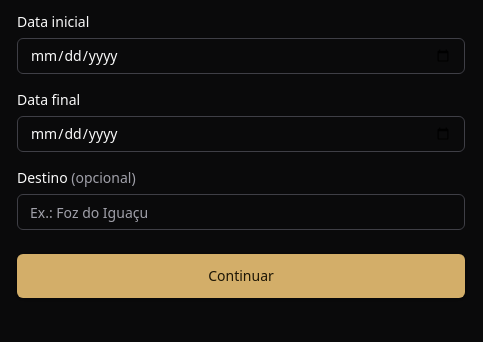
T01DateRangeForm (RF-01.4) › corrigir a data final após erro remove a mensagem e permite avançar
Type "2026-10-10" into the date field labelled "Data inicial".
click(241, 56); type("2026-10-10")  # box [17, 38, 465, 74]
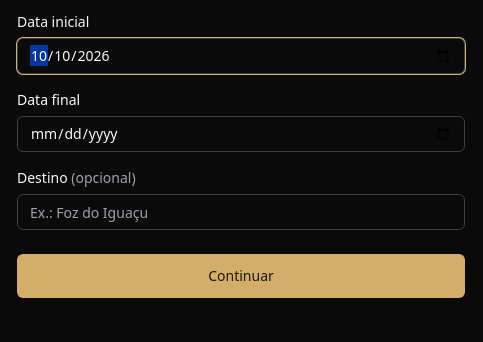
Type "2026-10-05" into the date field labelled "Data final".
click(241, 134); type("2026-10-05")  # box [17, 116, 465, 152]
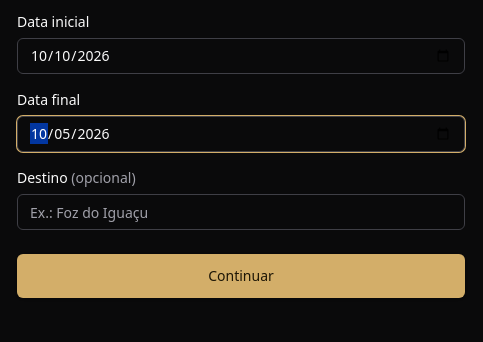
Click the button "Continuar".
click(241, 276)  # box [17, 254, 465, 298]
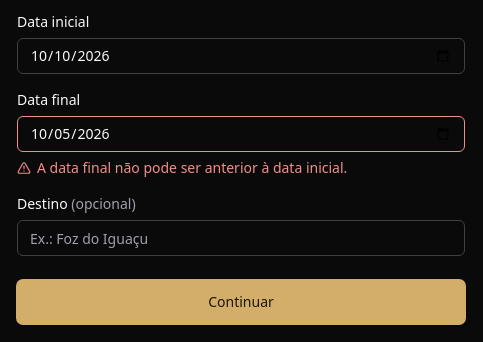
Expected: the message "A data final não pode ser anterior à data inicial." is shown, [17, 158, 347, 177]
Type "2026-10-15" into the date field labelled "Data final".
click(241, 134); type("2026-10-15")  # box [17, 116, 465, 152]
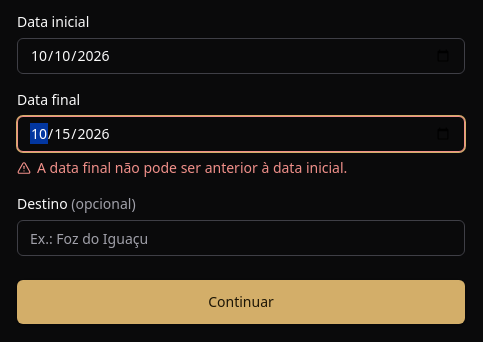
Click the button "Continuar".
click(241, 302)  # box [17, 280, 465, 324]
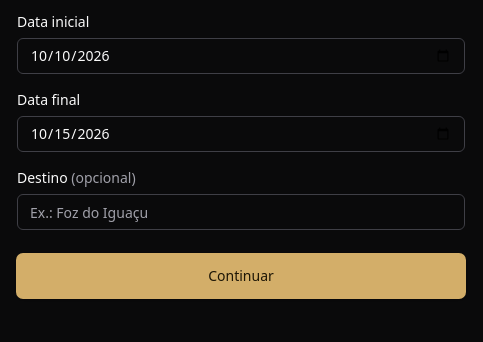
Expected: the message "A data final não pode ser anterior à data inicial." is gone
